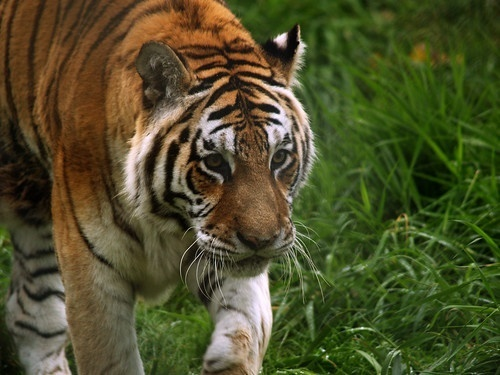tigre: (1, 1, 322, 374)
